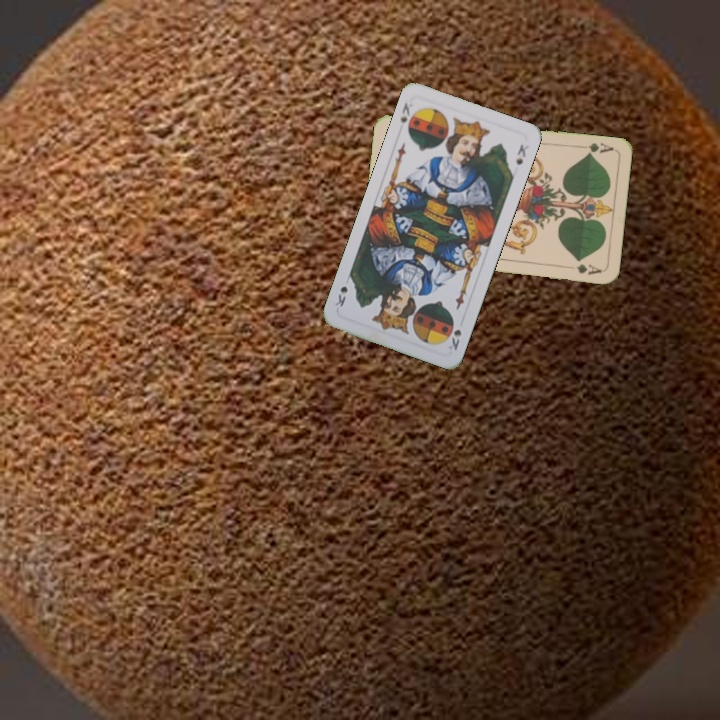GA: (576, 138, 616, 157)
SK: (444, 325, 464, 353), (396, 98, 415, 125)
